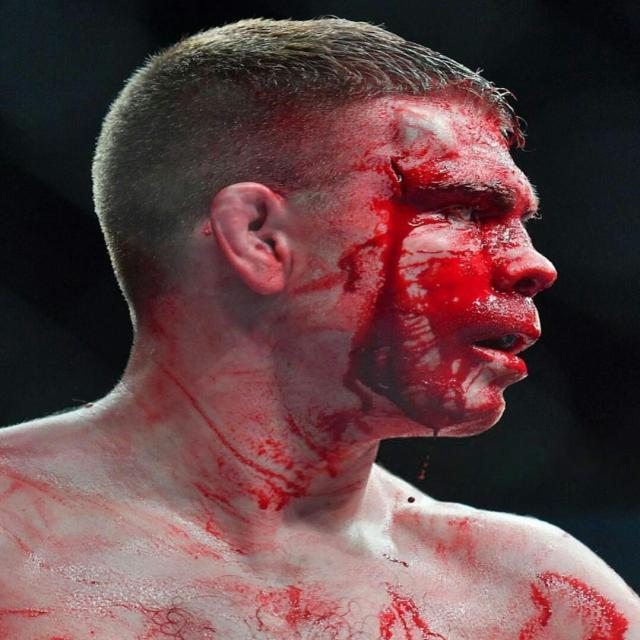flood: (326, 106, 558, 453), (176, 384, 358, 541), (517, 560, 640, 640), (235, 563, 353, 640), (361, 582, 450, 640), (143, 592, 200, 640)
